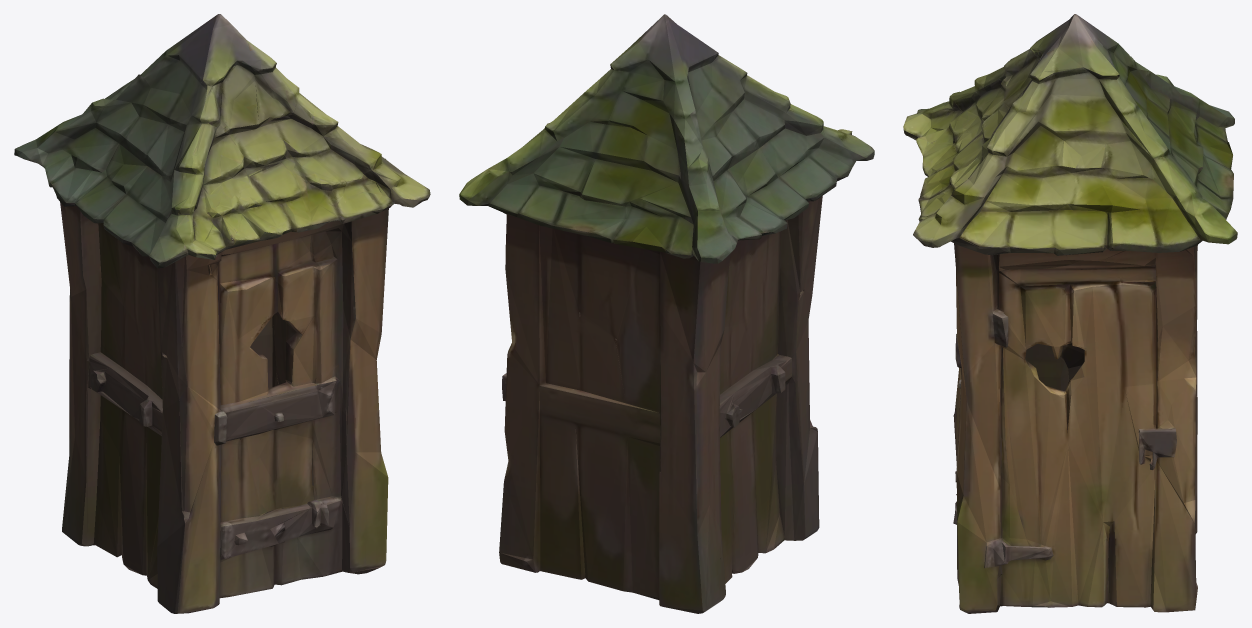
The model's file is outhouse_green.glb.
The picture shows the model from 3 angles, left to right: view 1: azimuth 30°, elevation 25°; view 2: azimuth 150°, elevation 25°; view 3: azimuth 270°, elevation 25°; orthographic projection. The views are drawn at different scales.
Parts seen in each view (by area): view 1: world; view 2: world; view 3: world.
Boxes of the visible parts, box(x1,y1,x2,y2) form: world: box(14, 14, 430, 613); world: box(459, 14, 874, 613); world: box(903, 14, 1237, 613).
Size of the model in its own units: 0.5425 by 0.9992 by 0.5509.
1 material, 1 textured.
